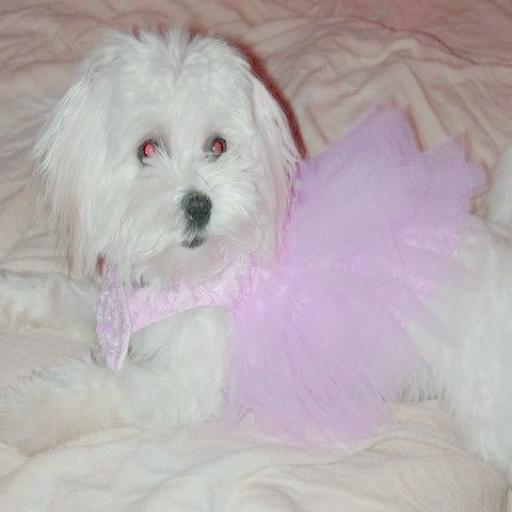dog_face: (52, 38, 289, 283)
